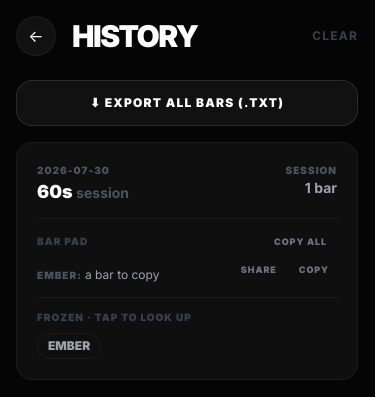
Test: Copy All reports real clipboard outcomes › confirms success when the clipboard write resolves
Click the button "Copy All" at (301, 242), box [264,231,337,252]
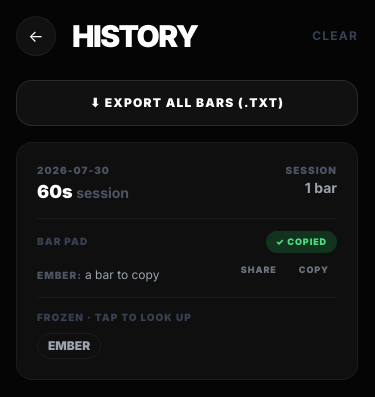
expect the button "✓ Copied" is shown: met, box [266,231,337,252]
